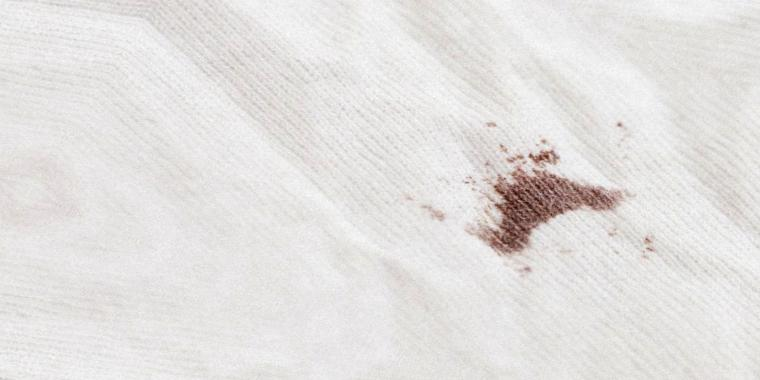stain: (481, 148, 626, 266)
